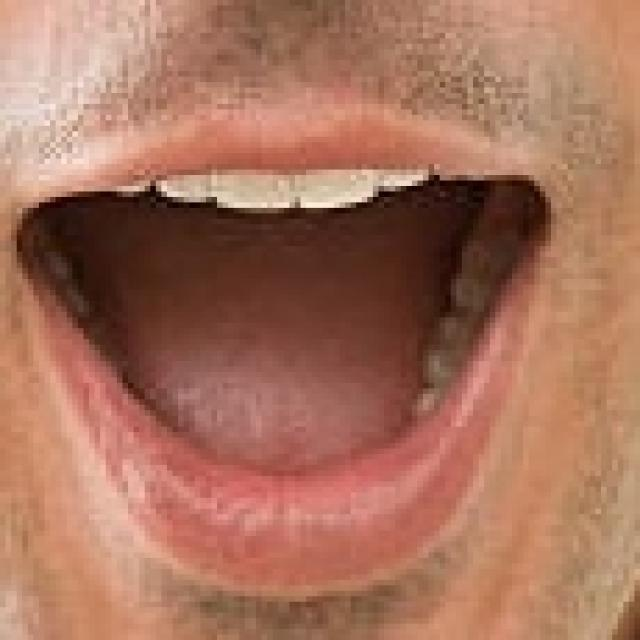open-mouth: (6, 120, 552, 602)
